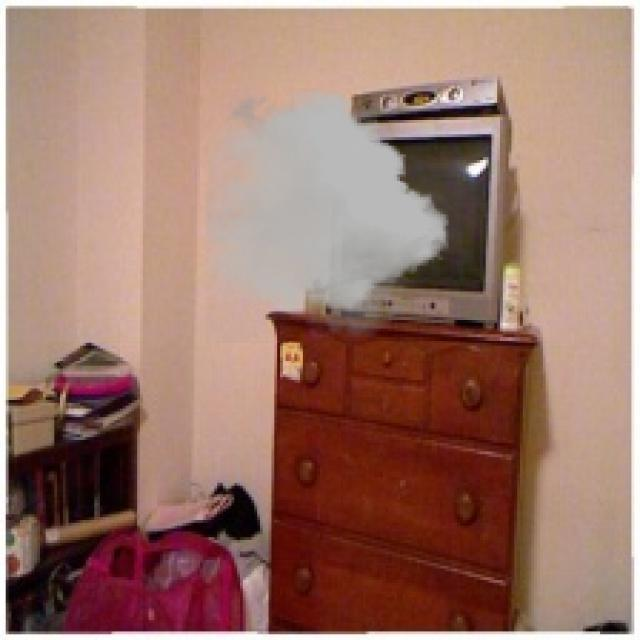Smoke: (206, 86, 448, 343)
